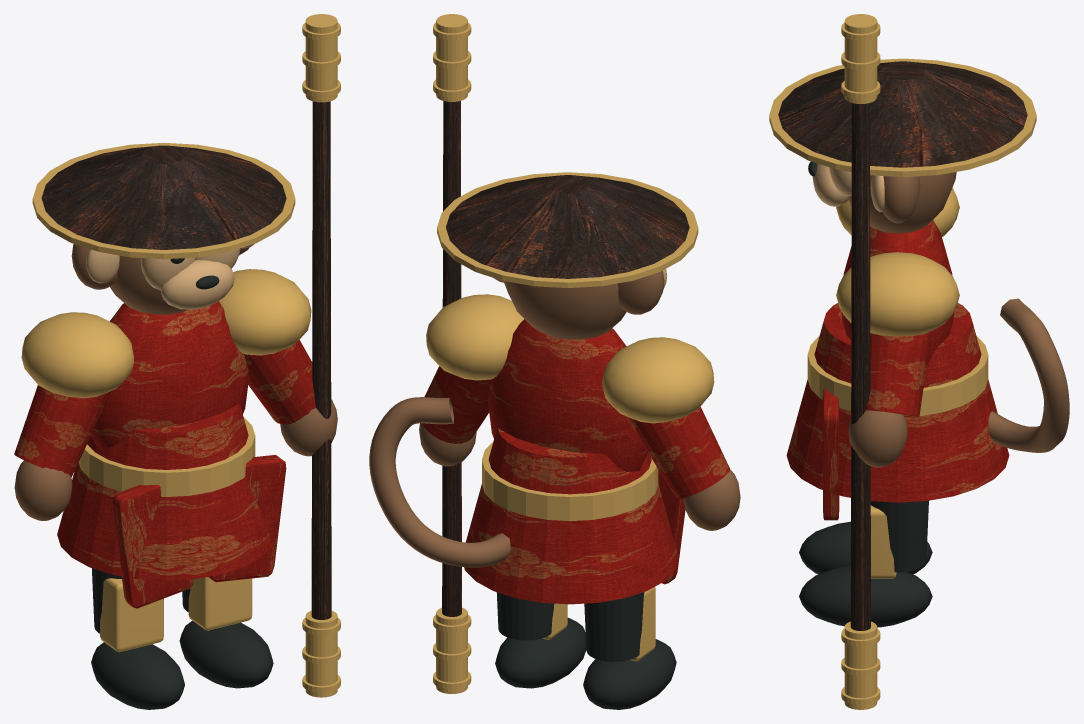
File: player.glb
3 renders of one model, left to right at view 1: azimuth 30°, elevation 25°; view 2: azimuth 150°, elevation 25°; view 3: azimuth 270°, elevation 25°, orthographic. The views are drawn at different scales.
Visible parts, largest first — view 1: Flared coat, Travel hat, Coat chest, Staff shaft, Shoulder, Shoulder.001, Sleeve, Sash, Hat bronze rim, Boot.001, Boot, Coat hem panel (+14 smaller); view 2: Flared coat, Travel hat, Coat chest, Shoulder, Curled monkey tail, Shoulder.001, Sleeve, Staff shaft, Sash, Monkey head, Hat bronze rim, Boot (+11 smaller); view 3: Travel hat, Flared coat, Staff shaft, Shoulder.001, Curled monkey tail, Boot.001, Hat bronze rim, Sleeve.001, Sash, Coat chest, Trouser.001, Hand.001 (+9 smaller).
Boxes of the visible parts, bbox=[...] form: Flared coat: bbox=[57, 404, 272, 580]; Travel hat: bbox=[41, 145, 286, 249]; Coat chest: bbox=[91, 301, 249, 447]; Staff shaft: bbox=[311, 101, 331, 619]; Shoulder: bbox=[21, 312, 134, 398]; Shoulder.001: bbox=[219, 269, 311, 355]; Sleeve: bbox=[14, 385, 110, 476]; Sash: bbox=[78, 417, 255, 496]; Hat bronze rim: bbox=[32, 142, 295, 259]; Boot.001: bbox=[179, 620, 273, 688]; Boot: bbox=[91, 642, 184, 709]; Coat hem panel: bbox=[112, 484, 193, 608]; Flared coat: bbox=[464, 428, 678, 604]; Travel hat: bbox=[446, 175, 689, 278]; Coat chest: bbox=[488, 319, 647, 471]; Shoulder: bbox=[602, 337, 714, 423]; Curled monkey tail: bbox=[369, 397, 510, 567]; Shoulder.001: bbox=[426, 294, 523, 380]; Sleeve: bbox=[626, 407, 729, 498]; Staff shaft: bbox=[442, 101, 461, 616]; Sash: bbox=[482, 441, 658, 521]; Monkey head: bbox=[504, 281, 626, 339]; Hat bronze rim: bbox=[437, 172, 698, 287]; Boot: bbox=[583, 639, 676, 709]; Travel hat: bbox=[778, 61, 1027, 167]; Flared coat: bbox=[786, 303, 1009, 502]; Staff shaft: bbox=[850, 103, 870, 630]; Shoulder.001: bbox=[836, 252, 959, 336]; Curled monkey tail: bbox=[988, 298, 1069, 452]; Boot.001: bbox=[799, 565, 932, 627]; Hat bronze rim: bbox=[769, 58, 1036, 176]; Sleeve.001: bbox=[866, 331, 931, 417]; Sash: bbox=[807, 336, 988, 416]; Coat chest: bbox=[841, 220, 954, 365]; Trouser.001: bbox=[870, 500, 928, 572]; Hand.001: bbox=[848, 410, 907, 467].
Size of the model in its own units: 1.5 by 3.04 by 1.21.
6 materials, 2 textured.
